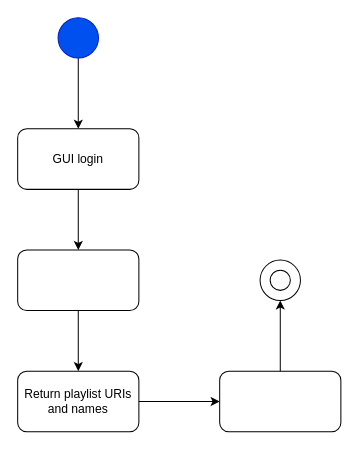
The diagram is 359 pixels wide and 449 high, and some of its shapes have lost their labels. Each missing label, with the centre of its shape:
Add URIs and names to database to prevent repeated playlist names: point 280,401
Call get playlist function for user URI on successful login: point 78,280
